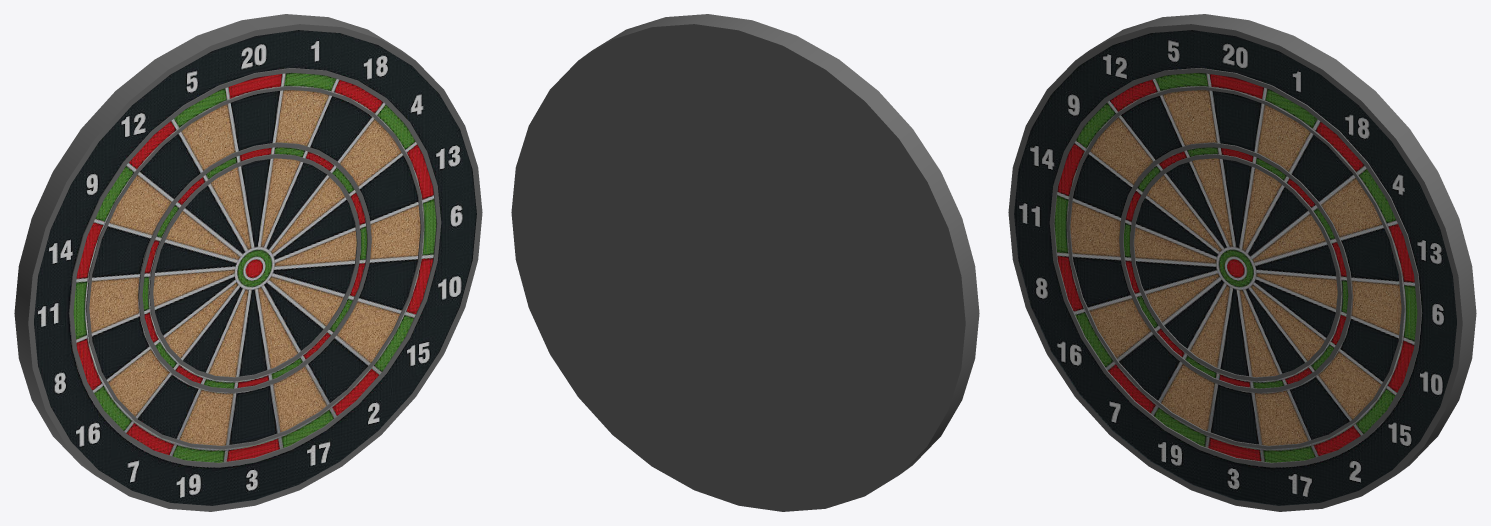
File: DartBoard.fbx
3 renders of one model, left to right at view 1: azimuth 30°, elevation 25°; view 2: azimuth 150°, elevation 25°; view 3: azimuth 330°, elevation 25°, orthographic.
Visible parts, largest first — view 1: Cylinder; view 2: Cylinder; view 3: Cylinder.
Part boxes in pixels (x1,y1,x2,y2): Cylinder: [14, 14, 482, 511]; Cylinder: [511, 14, 979, 511]; Cylinder: [1008, 14, 1476, 511].
Size of the model in its own units: 200 by 200 by 10.5.
Materials: 2 (1 with a texture image).
